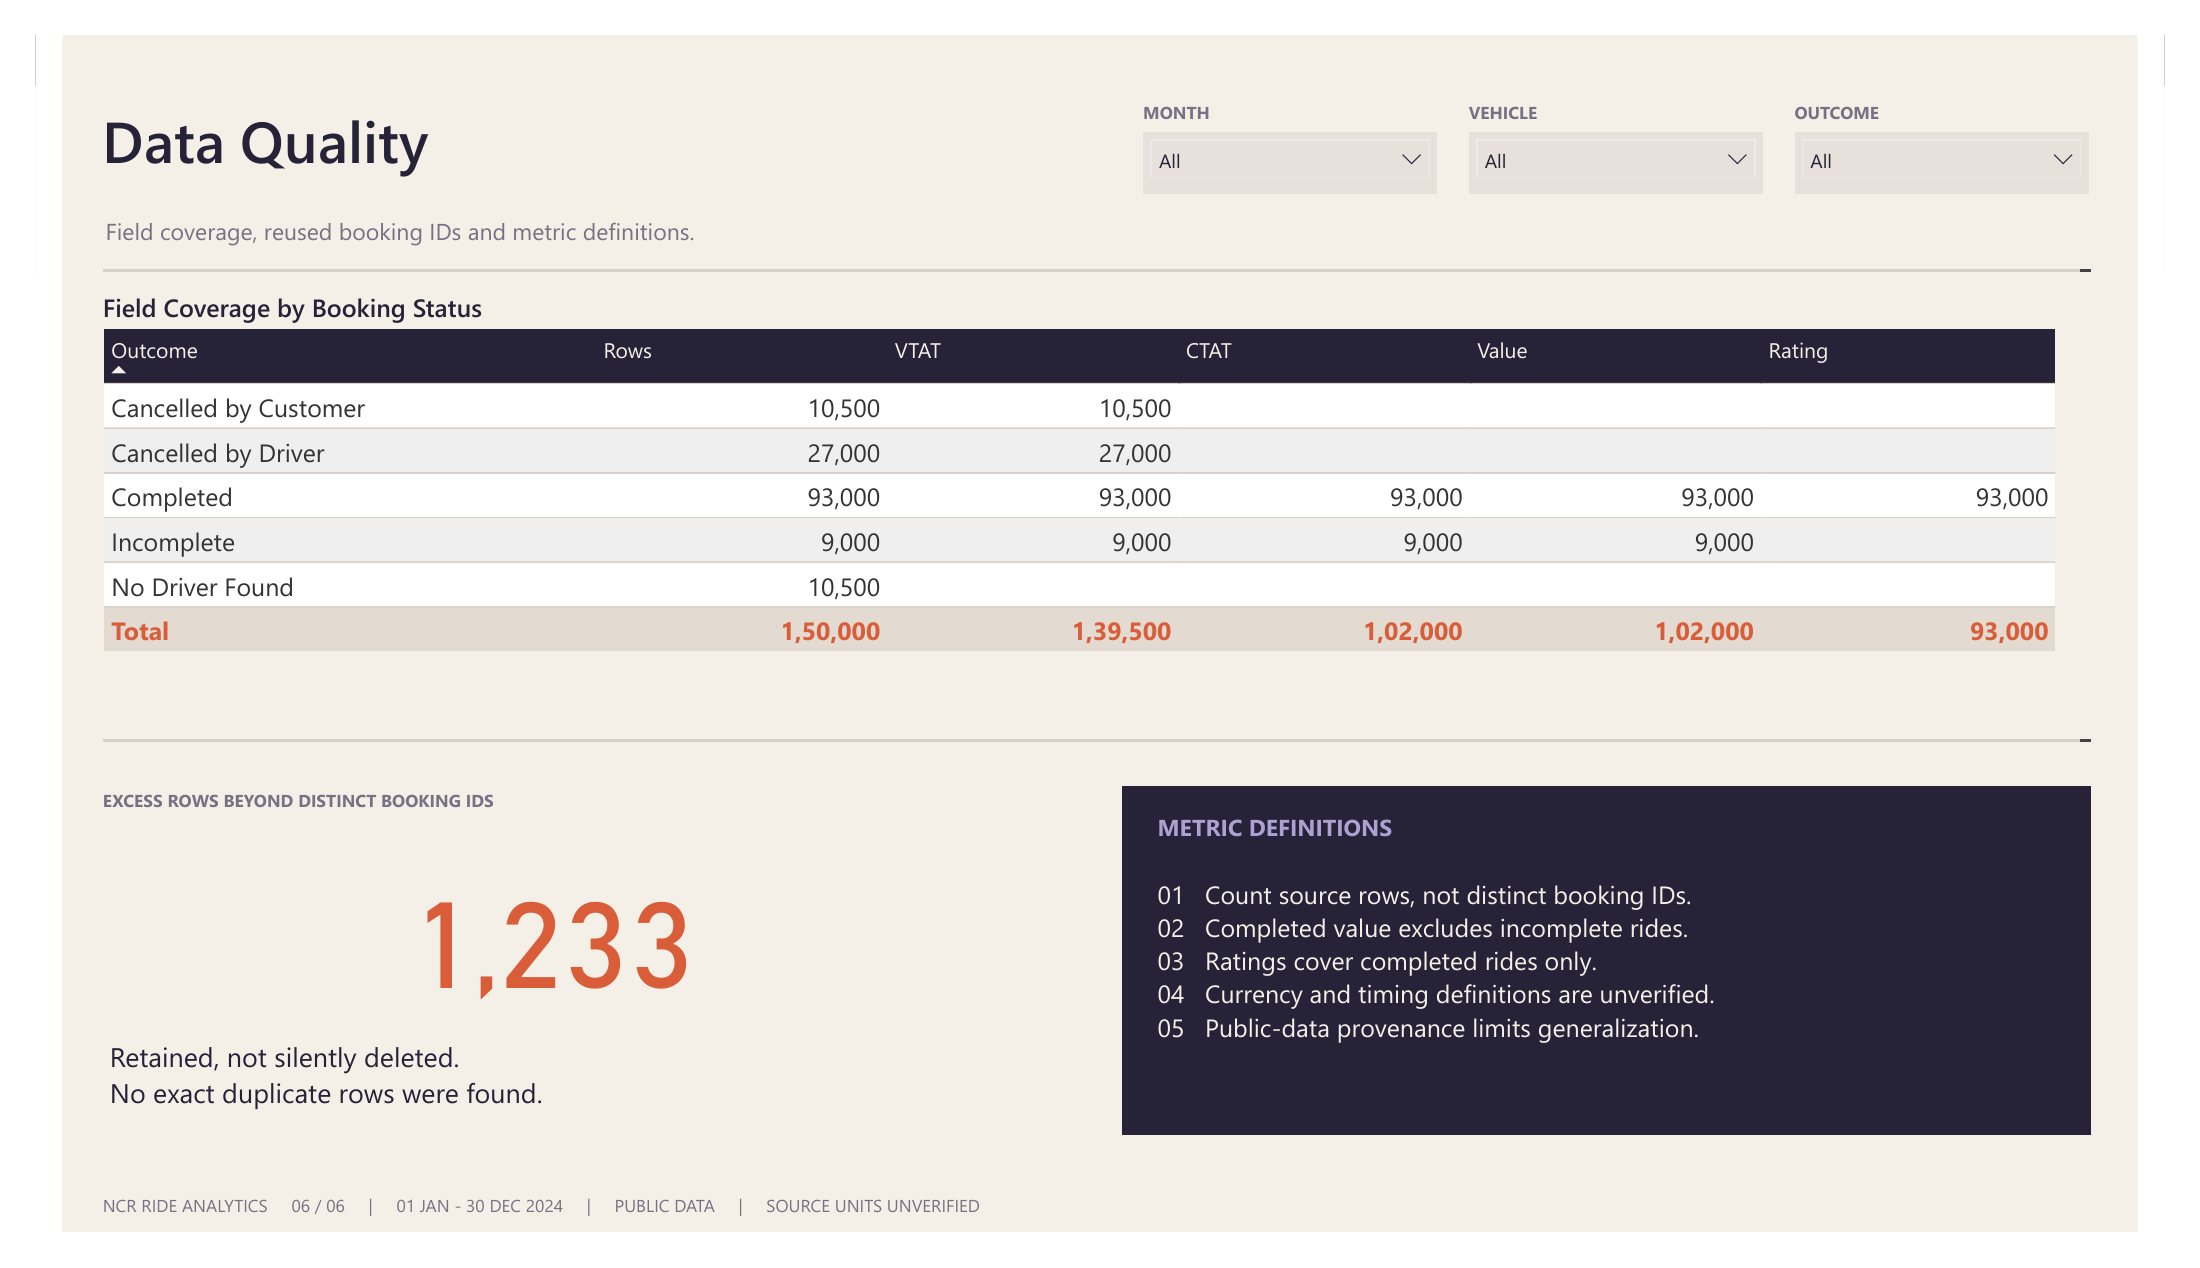

The dashboard page shown, as its layout file describes it:
{"tool":"powerbi","page":{"name":"06 / Data quality","canvas":[1440,810],"ordinal":5},"visuals":[{"type":"textbox","box":[28,26,680,62],"z":91},{"type":"textbox","box":[750,23,204,20],"z":92},{"type":"slicer","fields":{"Values":["Calendar.month"]},"box":[750,47,204,43],"z":93},{"type":"textbox","box":[976,23,204,20],"z":94},{"type":"slicer","fields":{"Values":["Vehicle.vehicle_type"]},"box":[976,47,204,43],"z":95},{"type":"textbox","box":[1202,23,204,20],"z":96},{"type":"slicer","fields":{"Values":["Status.status"]},"box":[1202,47,204,43],"z":97},{"type":"textbox","box":[30,105,1376,32],"z":98},{"type":"textbox","box":[28,142,1380,2],"z":99},{"type":"textbox","box":[28,782,1380,24],"z":100},{"type":"tableEx","title":"Field Coverage by Booking Status","fields":{"Values":["Status.status","Bookings.Bookings","Bookings.VTAT Observed","Bookings.CTAT Observed","Bookings.Value Observed","Bookings.Rating Observed"]},"box":[28,157,1380,279],"z":101},{"type":"textbox","box":[28,468,1380,2],"z":102},{"type":"textbox","box":[28,501,662.1,25],"z":103},{"type":"card","fields":{"Values":["Bookings.Excess ID Rows"]},"box":[15.2,538,650.5,121],"z":104},{"type":"textbox","box":[32.6,676,630.8,64],"z":105},{"type":"textbox","box":[735.4,501,672.6,242],"z":106},{"type":"textbox","box":[759.8,519,620.3,27],"z":107},{"type":"textbox","box":[759.8,564,620.3,159],"z":108}]}

Visuals, with their boxes in screenshot pixels (x1, y1, x2, y2), scaled from the page's 1440x810 canvas onto the 2200x1268 screenshot:
textbox: bbox(43, 41, 1082, 138)
textbox: bbox(1146, 36, 1458, 67)
slicer - Calendar.month: bbox(1146, 74, 1458, 141)
textbox: bbox(1491, 36, 1803, 67)
slicer - Vehicle.vehicle_type: bbox(1491, 74, 1803, 141)
textbox: bbox(1836, 36, 2148, 67)
slicer - Status.status: bbox(1836, 74, 2148, 141)
textbox: bbox(46, 164, 2148, 214)
textbox: bbox(43, 222, 2151, 225)
textbox: bbox(43, 1224, 2151, 1262)
"Field Coverage by Booking Status" tableEx: bbox(43, 246, 2151, 683)
textbox: bbox(43, 733, 2151, 736)
textbox: bbox(43, 784, 1054, 823)
card - Bookings.Excess ID Rows: bbox(23, 842, 1017, 1032)
textbox: bbox(50, 1058, 1014, 1158)
textbox: bbox(1124, 784, 2151, 1163)
textbox: bbox(1161, 812, 2108, 855)
textbox: bbox(1161, 883, 2108, 1132)
